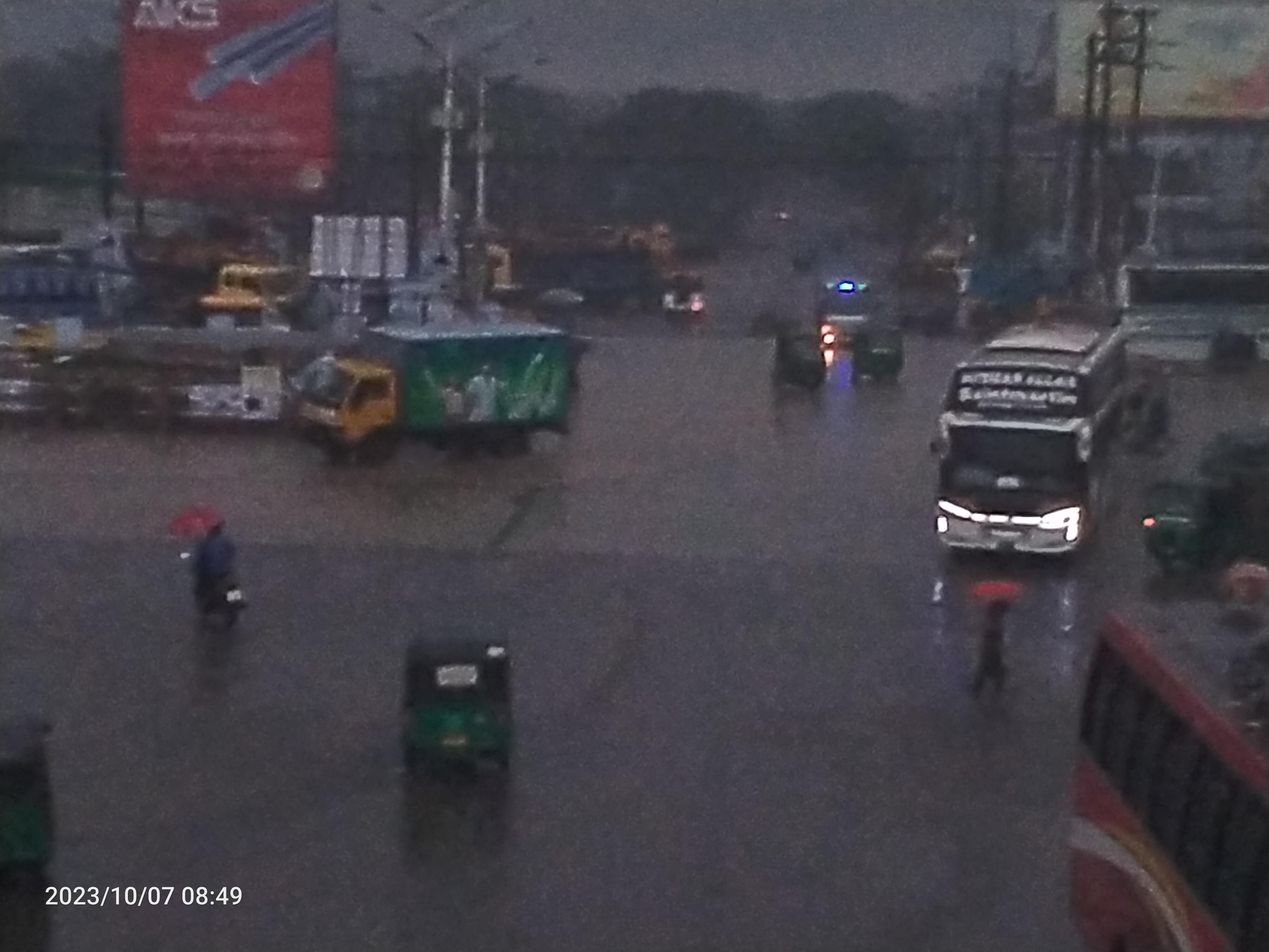Bike: (147, 480, 266, 644)
Bus: (1039, 577, 1269, 952), (917, 297, 1169, 601), (1082, 229, 1269, 390), (0, 217, 137, 367)
Truck: (273, 297, 598, 494)
